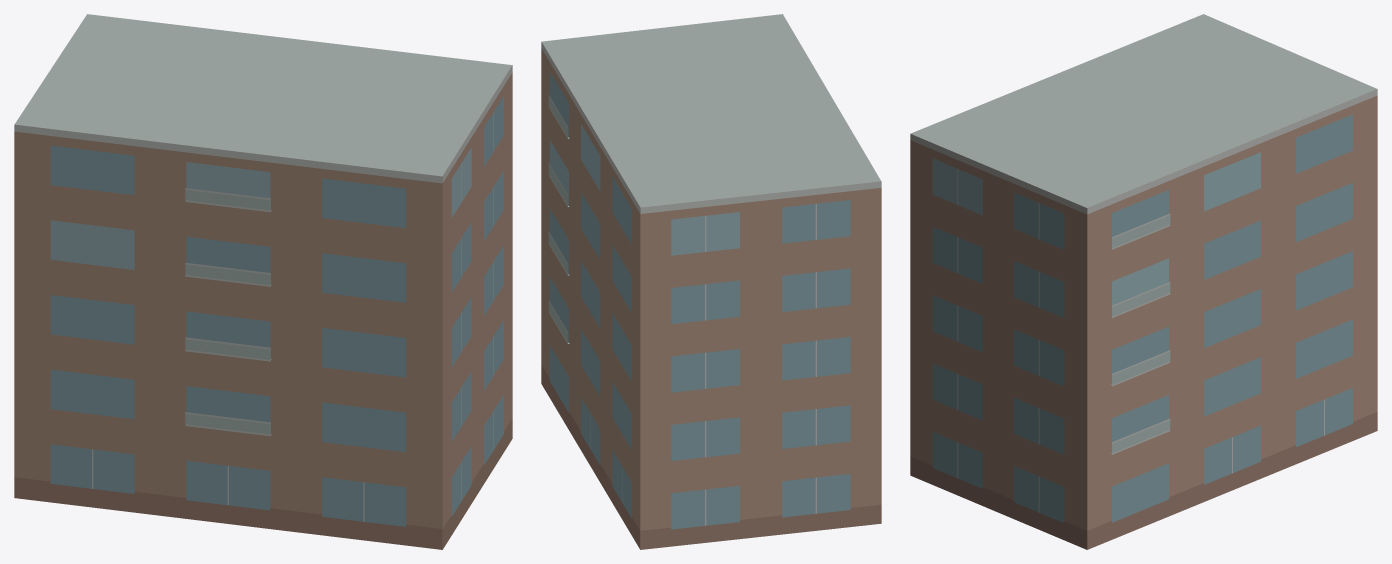
The model's file is survey-upis-32882491.glb.
3 views of the same model, side by side, from view 1: azimuth 30°, elevation 25°; view 2: azimuth 150°, elevation 25°; view 3: azimuth 270°, elevation 25° (orthographic). The views are drawn at different scales.
Visible parts, largest first — view 1: survey-upis-32882491.tmp; view 2: survey-upis-32882491.tmp; view 3: survey-upis-32882491.tmp.
Boxes of the visible parts, left/top/right/bottom form: survey-upis-32882491.tmp: left=14, top=14, right=512, bottom=549; survey-upis-32882491.tmp: left=541, top=14, right=881, bottom=549; survey-upis-32882491.tmp: left=910, top=14, right=1377, bottom=549.
Size of the model in its own units: 15.96 by 13.1 by 16.24.
